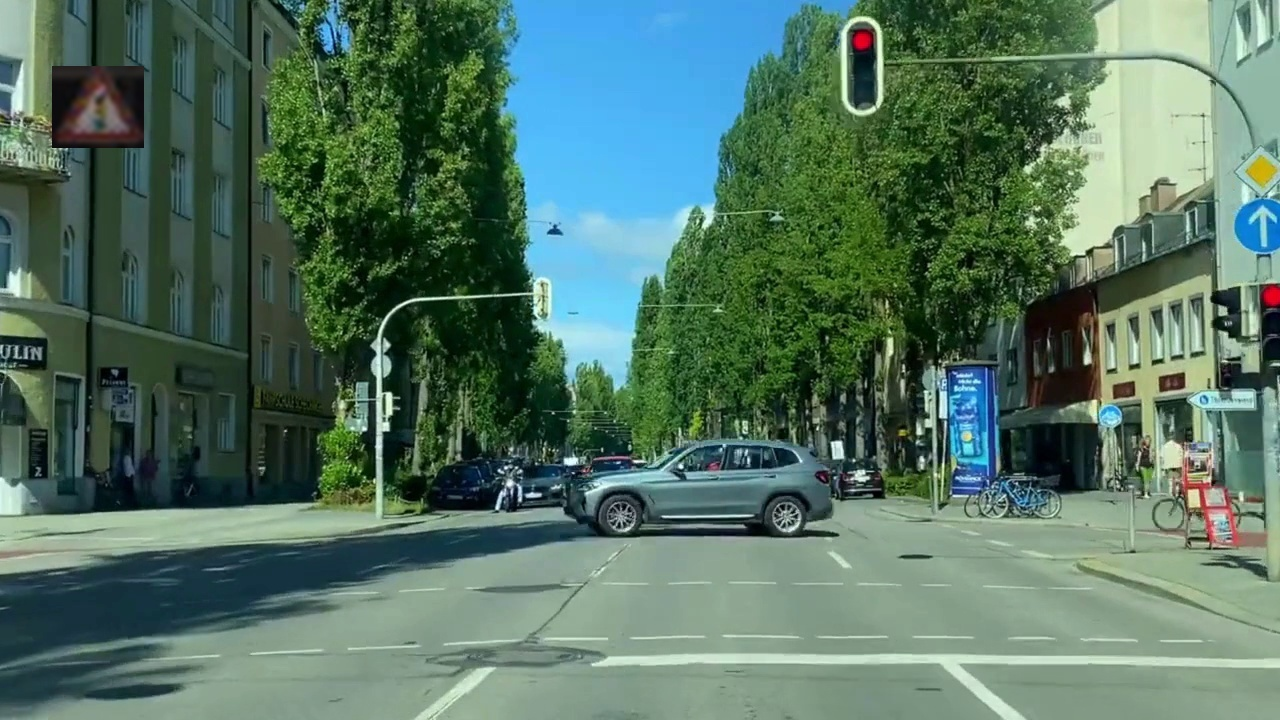Signals: (52, 66, 144, 148)
